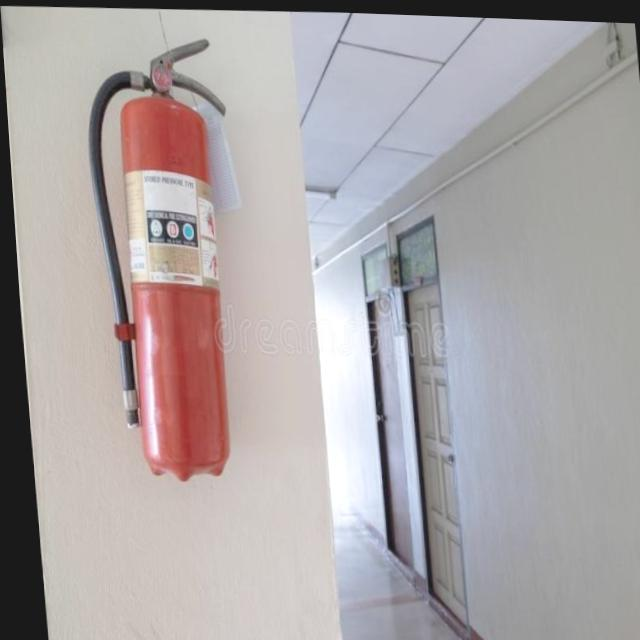FireExtinguisher: (69, 29, 255, 493)
